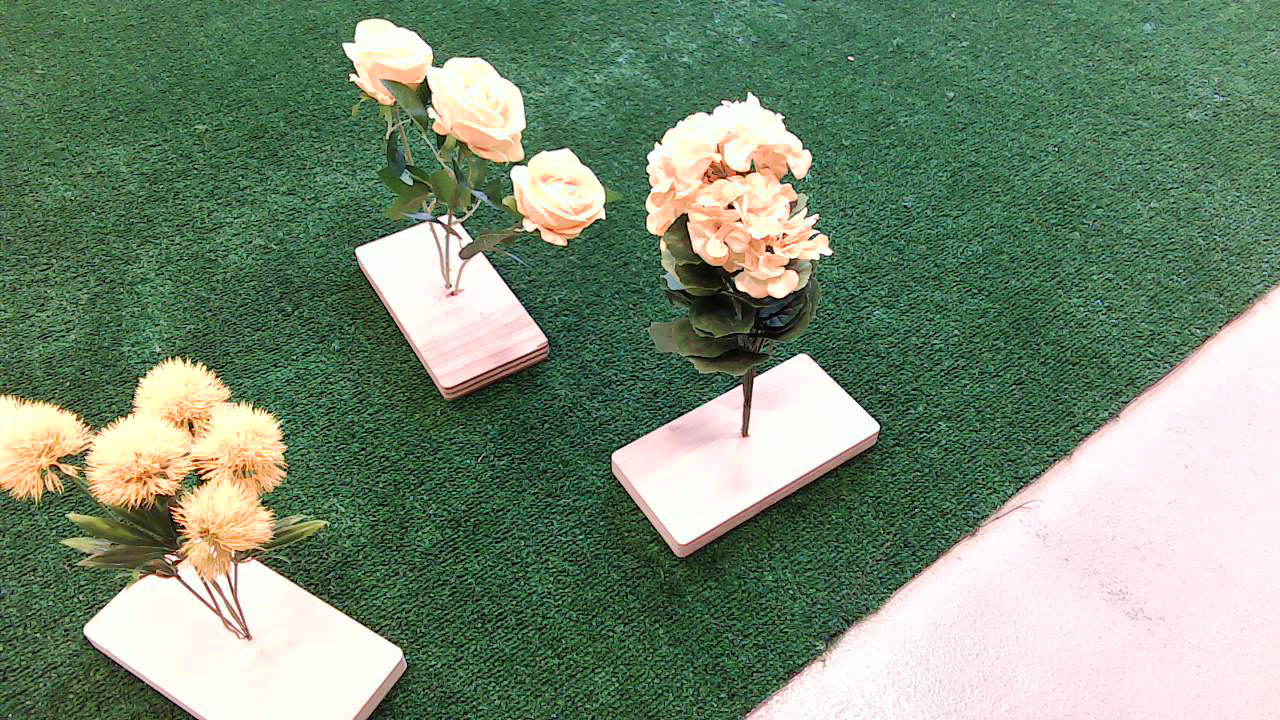dandelion: (5, 349, 363, 605)
geranium: (627, 88, 858, 416)
rose: (320, 14, 615, 290)
